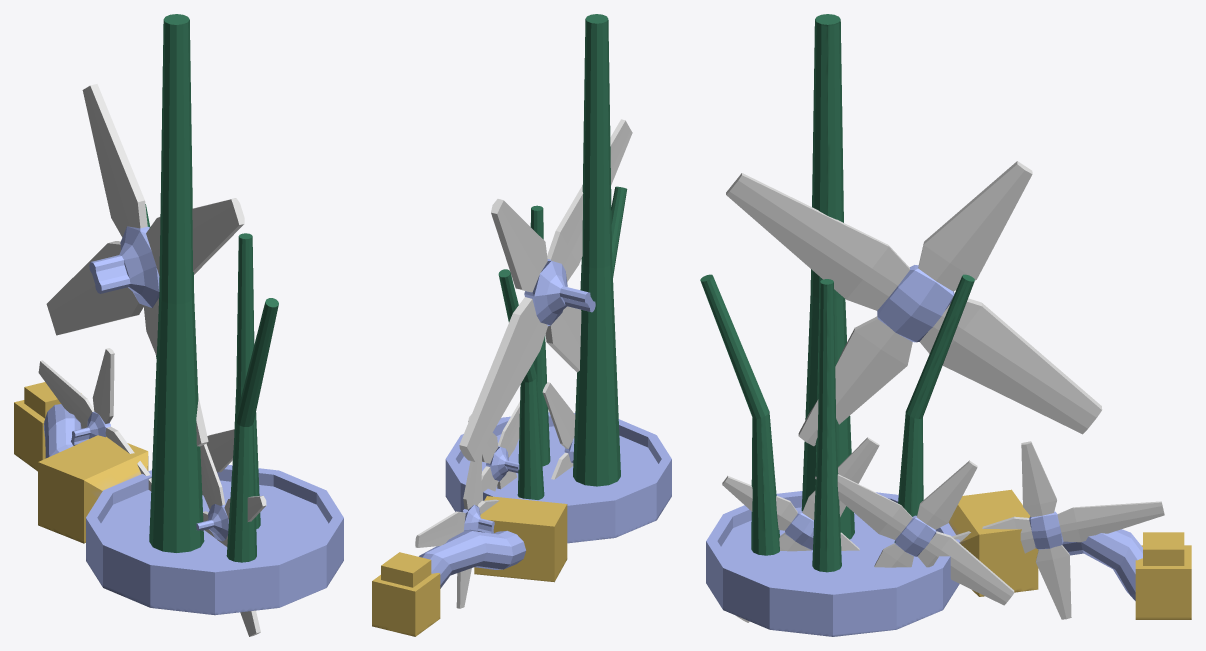
Rendered from cataventos.fbx.
The picture shows the model from 3 angles, left to right: view 1: azimuth 30°, elevation 25°; view 2: azimuth 150°, elevation 25°; view 3: azimuth 270°, elevation 25°; orthographic projection. The views are drawn at different scales.
Parts seen in each view (by area): view 1: Catavento, Helice_Catavento.001, Helice_Catavento.002, Helice_Catavento.004, Helice_Catavento.003; view 2: Catavento, Helice_Catavento.001, Helice_Catavento.002, Helice_Catavento.003, Helice_Catavento.004; view 3: Catavento, Helice_Catavento.001, Helice_Catavento.003, Helice_Catavento.002, Helice_Catavento.004.
Part boxes in pixels (bbox=[...]): Catavento: bbox=[14, 14, 343, 615]; Helice_Catavento.001: bbox=[46, 84, 244, 446]; Helice_Catavento.002: bbox=[38, 348, 151, 491]; Helice_Catavento.004: bbox=[196, 443, 266, 636]; Helice_Catavento.003: bbox=[202, 429, 234, 495]; Catavento: bbox=[372, 14, 671, 636]; Helice_Catavento.001: bbox=[459, 119, 632, 461]; Helice_Catavento.002: bbox=[415, 450, 521, 608]; Helice_Catavento.003: bbox=[468, 402, 519, 503]; Helice_Catavento.004: bbox=[542, 382, 575, 479]; Catavento: bbox=[700, 14, 1191, 636]; Helice_Catavento.001: bbox=[726, 161, 1102, 446]; Helice_Catavento.003: bbox=[815, 460, 1014, 605]; Helice_Catavento.002: bbox=[952, 441, 1164, 619]; Helice_Catavento.004: bbox=[722, 437, 879, 622].
Bounding box in the file's own units: 200 × 509 × 387.
